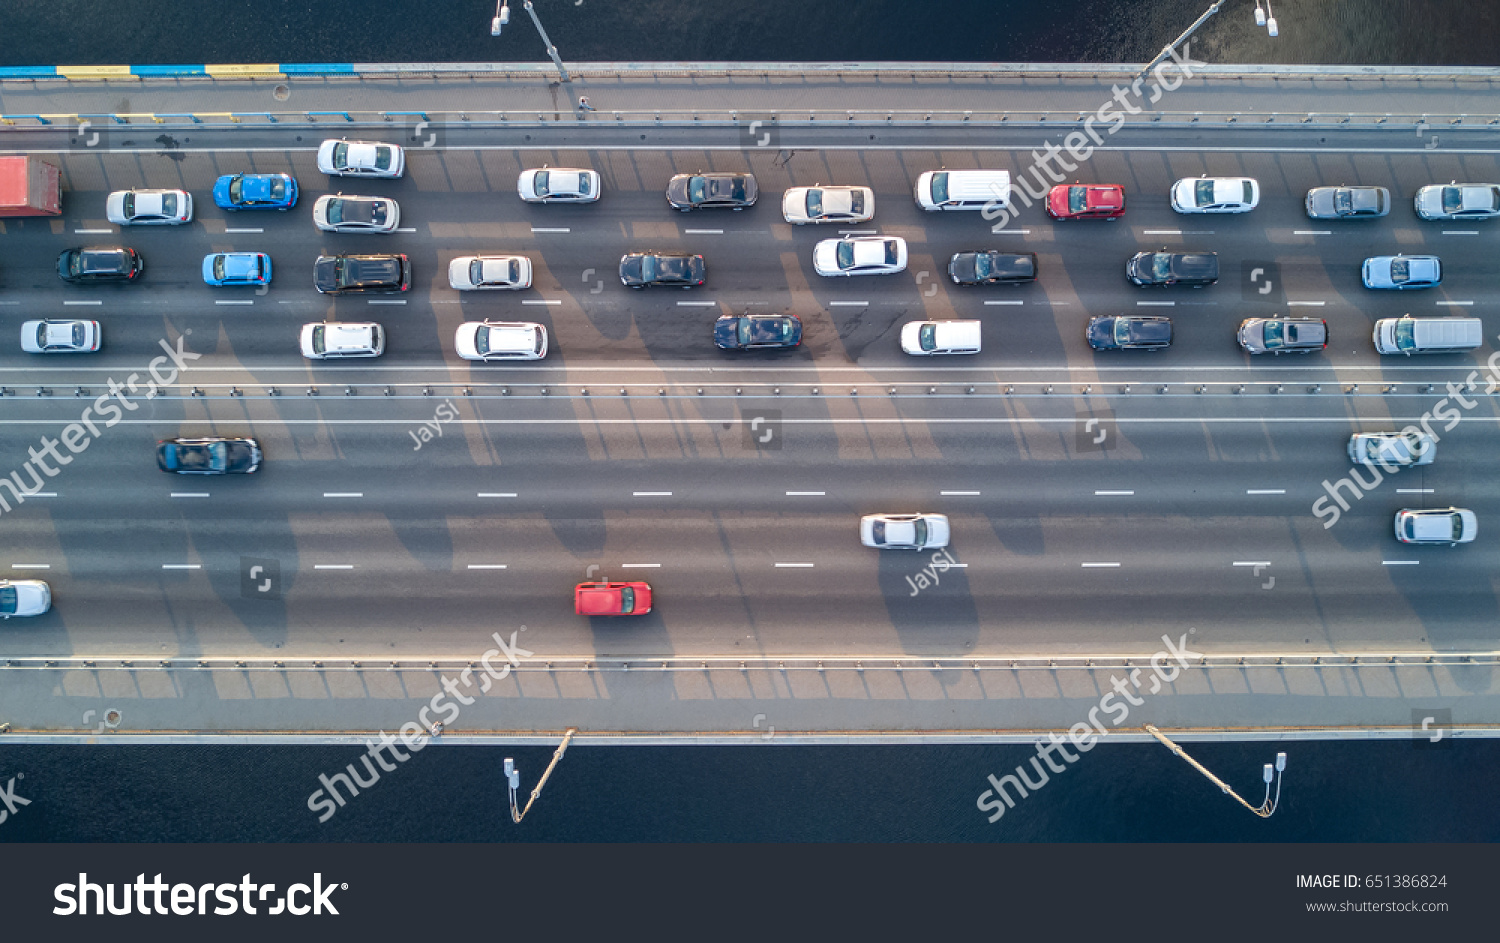Car: (308, 248, 417, 299), (1364, 314, 1488, 357), (153, 433, 267, 479), (907, 167, 1014, 215), (809, 232, 911, 281), (853, 508, 957, 556), (306, 135, 409, 183), (451, 318, 553, 365), (1164, 173, 1264, 219), (615, 248, 710, 296), (1125, 246, 1223, 291), (776, 183, 878, 226), (659, 169, 761, 213), (308, 192, 407, 237), (1411, 177, 1500, 226), (1233, 313, 1332, 356), (510, 165, 610, 208), (948, 246, 1041, 291), (297, 318, 391, 363), (710, 310, 806, 353), (442, 252, 537, 296), (1392, 503, 1484, 548), (1356, 249, 1445, 294), (211, 171, 303, 214), (101, 185, 196, 227), (896, 317, 987, 361), (1080, 314, 1176, 354), (1042, 180, 1129, 225), (565, 577, 656, 619), (51, 242, 146, 282), (15, 315, 103, 357), (1301, 181, 1394, 221), (198, 249, 276, 291)
LaneMark: (197, 367, 955, 370), (133, 420, 416, 423), (790, 419, 1070, 422), (459, 420, 738, 423), (1, 367, 137, 370), (619, 559, 661, 569), (472, 490, 519, 498), (776, 561, 816, 569), (784, 489, 823, 496), (157, 563, 202, 569), (5, 563, 50, 569), (631, 490, 675, 496), (464, 563, 507, 569), (1092, 490, 1134, 496), (1079, 561, 1120, 567), (169, 491, 210, 498), (310, 564, 355, 569), (940, 490, 981, 495), (530, 227, 570, 232), (75, 227, 112, 232), (319, 493, 362, 498), (62, 300, 103, 304), (520, 300, 562, 304), (213, 300, 253, 304), (367, 300, 407, 304), (676, 301, 716, 305), (224, 228, 264, 232), (828, 300, 866, 304), (684, 230, 723, 234), (839, 230, 877, 234), (400, 227, 416, 231)
